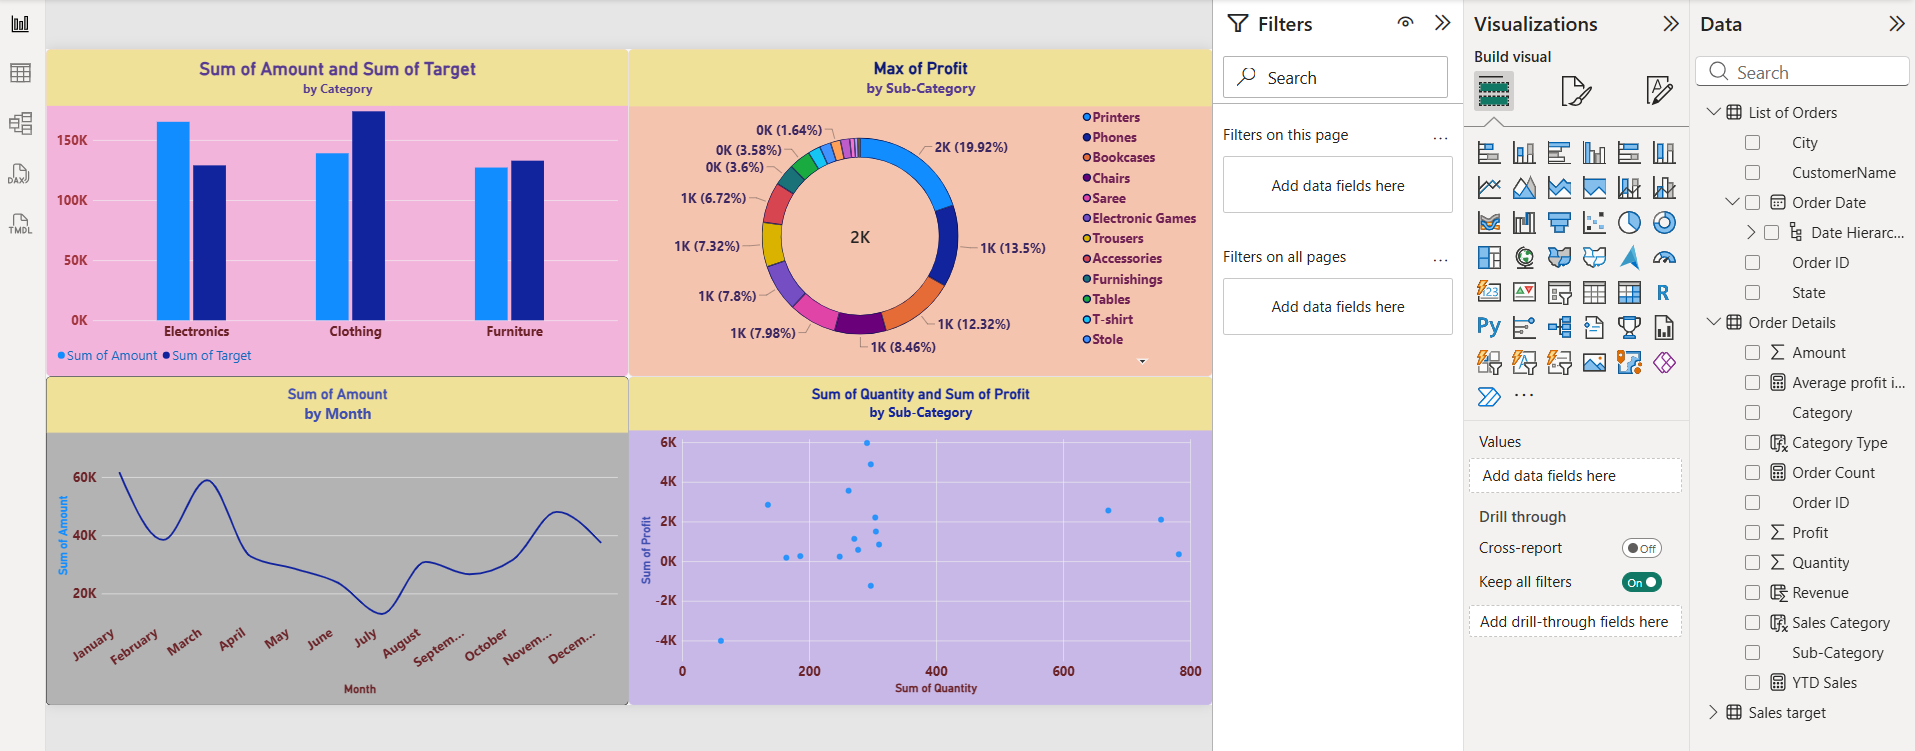

Layout of this report page (visuals, bound fields, positions):
{"tool":"powerbi","page":{"name":"VISUALIZATION","canvas":[1920,1080],"ordinal":0},"visuals":[{"type":"clusteredColumnChart","fields":{"Category":["Order Details .Category"],"Y":["Sum(Order Details .Amount)","Sum(Sales target .Target)"]},"box":[0,0,959.2,539.3],"z":0},{"type":"donutChart","fields":{"Category":["Order Details .Sub-Category"],"Y":["Max(Order Details .Profit)"]},"box":[959.2,0,961.2,539.3],"z":1},{"type":"lineChart","fields":{"Category":["List of Orders .Order Date.Variation.Date Hierarchy.Year","List of Orders .Order Date.Variation.Date Hierarchy.Quarter","List of Orders .Order Date.Variation.Date Hierarchy.Month","List of Orders .Order Date.Variation.Date Hierarchy.Day"],"Y":["Sum(Order Details .Amount)"]},"box":[0,539.3,959.2,541.3],"z":2},{"type":"scatterChart","fields":{"Category":["Order Details .Sub-Category"],"X":["Sum(Order Details .Quantity)"],"Y":["Sum(Order Details .Profit)"]},"box":[959.2,539.3,961.2,541.3],"z":3}]}

Visuals, with their boxes on the page's 1920x1080 design canvas (x1, y1, x2, y2). These are canvas units, not pixel positions in the 1915x751 screenshot, which may show the page scaled, cropped or inside an application window:
clusteredColumnChart - Order Details .Category x Sum(Order Details .Amount): region(0, 0, 959, 539)
donutChart - Order Details .Sub-Category x Max(Order Details .Profit): region(959, 0, 1920, 539)
lineChart - List of Orders .Order Date.Variation.Date Hierarchy.Year x List of Orders .Order Date.Variation.Date Hierarchy.Quarter: region(0, 539, 959, 1081)
scatterChart - Order Details .Sub-Category x Sum(Order Details .Quantity): region(959, 539, 1920, 1081)
